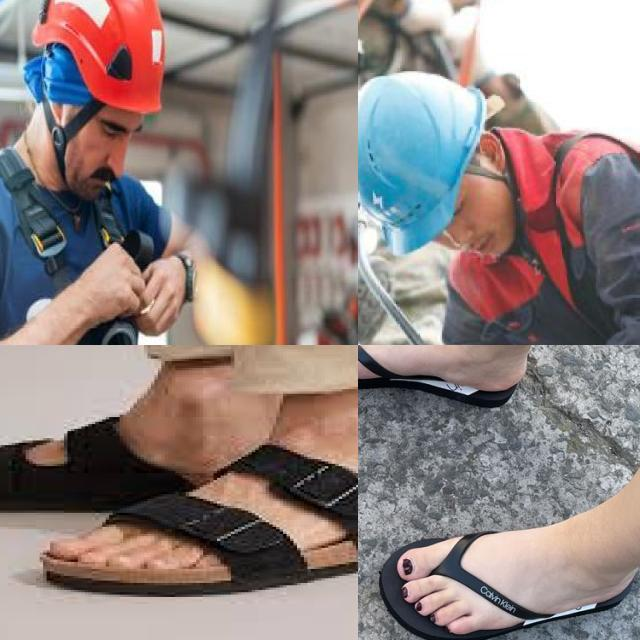Harness: (0, 146, 156, 345)
No_Ear-Protection: (476, 130, 509, 179)
Sandals: (358, 345, 640, 640), (37, 386, 358, 602)
face_nomask: (441, 200, 514, 260)
head_helmet: (358, 72, 485, 253)
